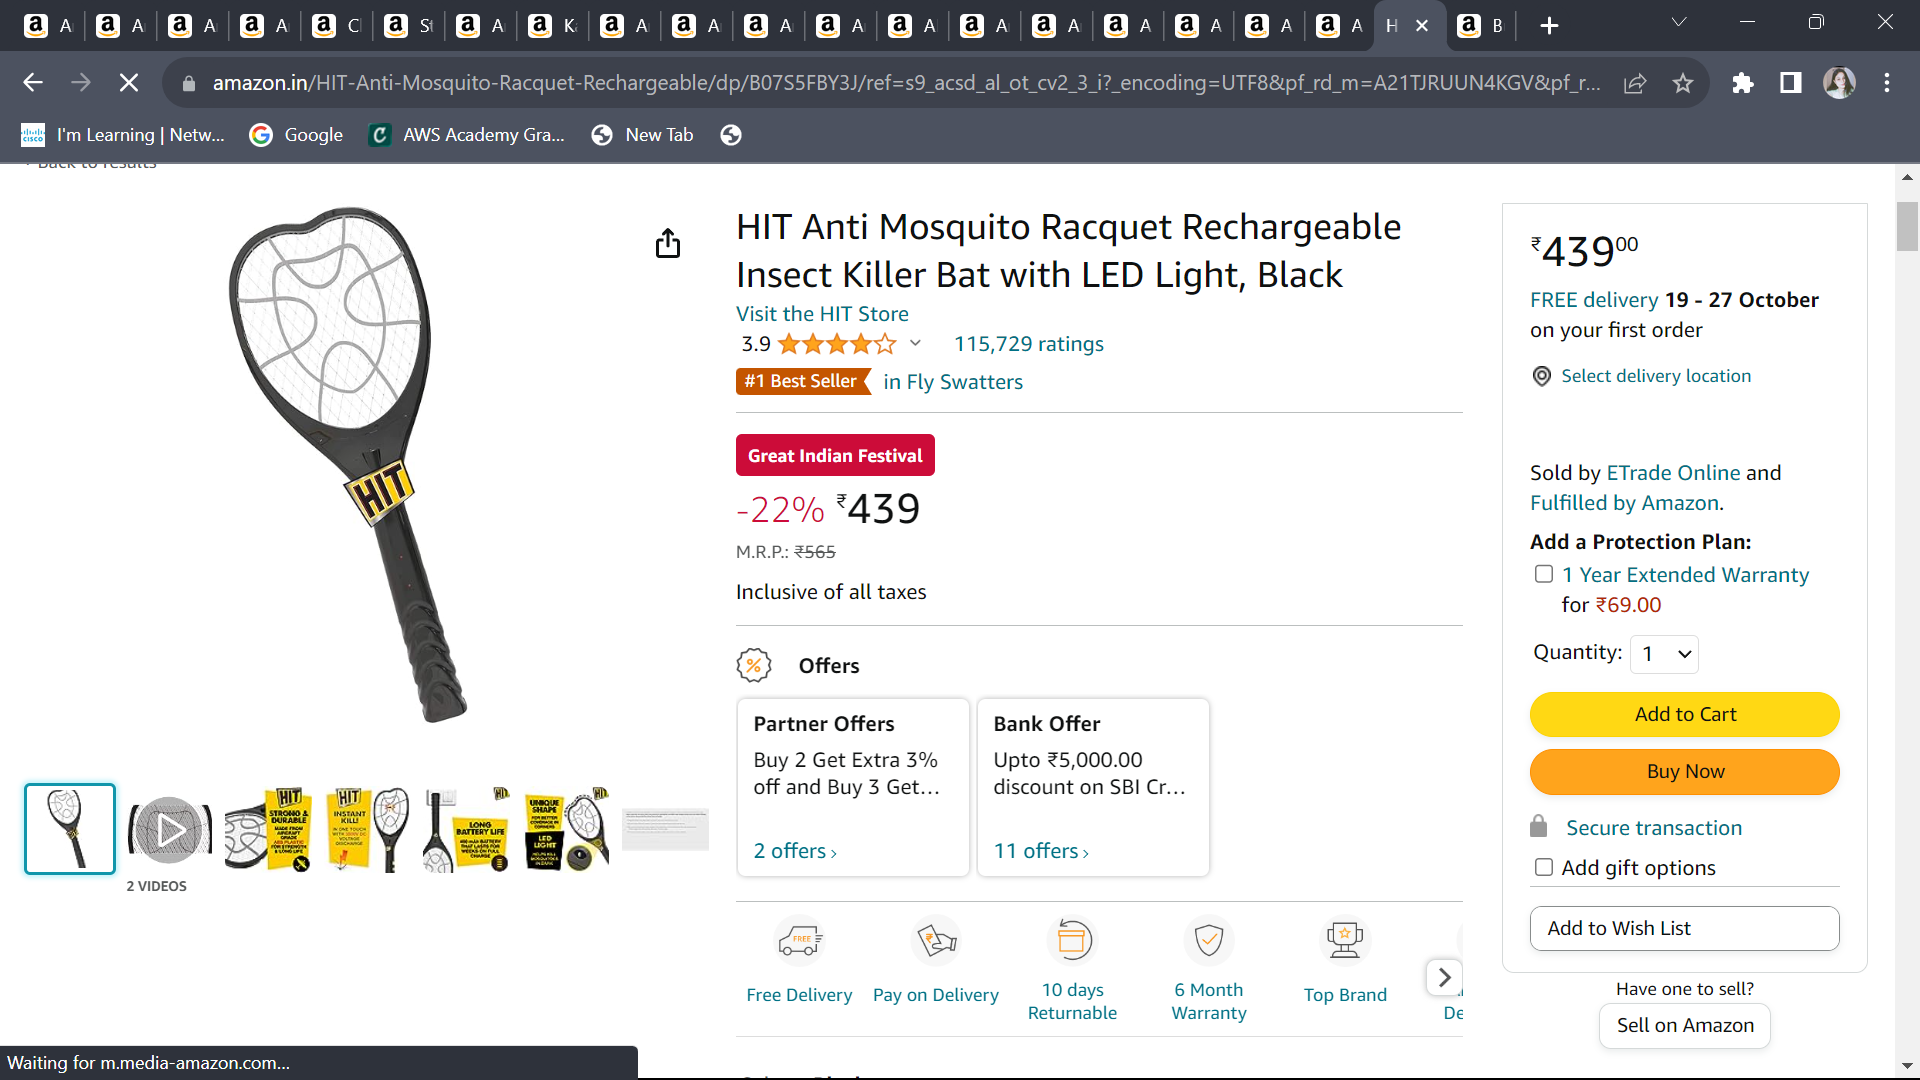Image: (165, 194, 636, 794)
Paragraph: (725, 624, 1242, 895), (729, 196, 1433, 295), (1516, 448, 1854, 640), (1505, 895, 1863, 1058), (1516, 675, 1863, 806), (1505, 800, 1851, 895), (1493, 269, 1840, 343), (711, 295, 1129, 355), (692, 538, 973, 615), (1493, 206, 1800, 274), (711, 359, 1058, 415), (704, 477, 980, 543), (1511, 349, 1785, 400), (1514, 640, 1726, 663)
